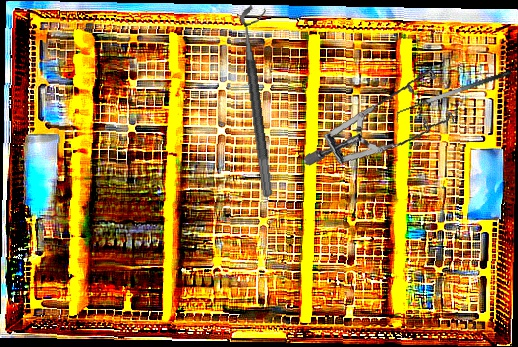Fixation Ring: (237, 2, 290, 198)
Spatula Surgical: (392, 69, 516, 123)
Speculum: (303, 52, 461, 183)
